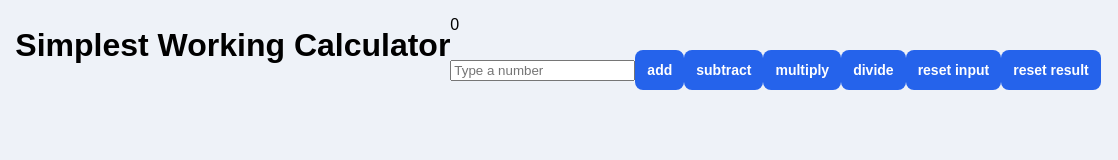
Test case: React Calculator › applies each operation to the running result
The image size is (1118, 160).
Step 1. Type "10" into the number field with placeholder "Type a number" → (543, 70), box [450,60,635,81]
Step 2. Click the button "add" → (660, 70), box [635,50,684,90]
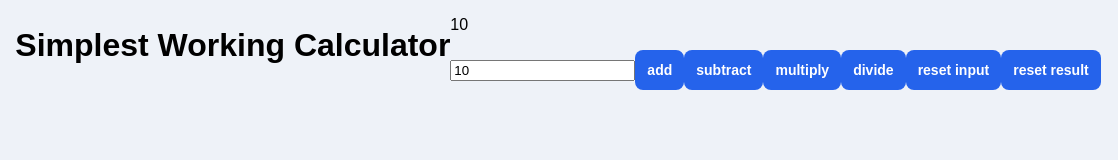
Now the text "10" is shown, box [450,16,468,33]
Step 3. Replace the text in the number field with placeholder "Type a number" with "4" → (543, 70), box [450,60,635,81]
Step 4. Click the button "subtract" → (724, 70), box [684,50,764,90]
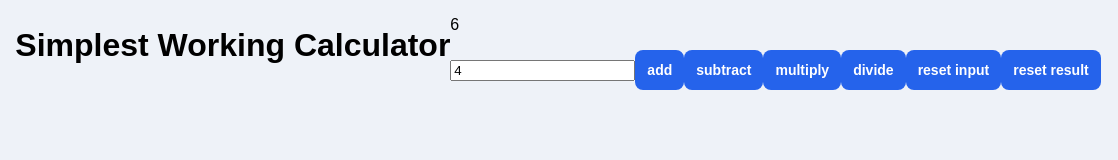
Now the text "6" is shown, box [450,16,459,33]
Step 5. Replace the text in the number field with placeholder "Type a number" with "3" → (543, 70), box [450,60,635,81]
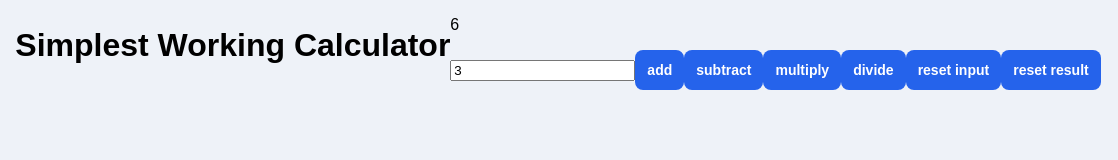
Step 6. Click the button "multiply" → (802, 70), box [764,50,841,90]
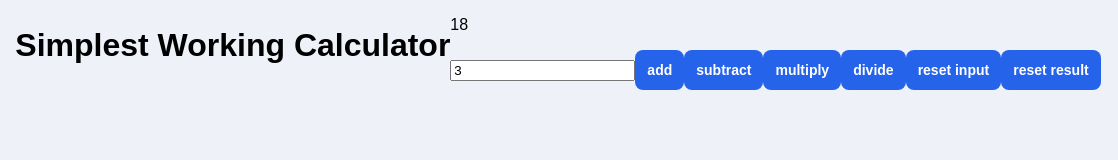
Now the text "18" is shown, box [450,16,468,33]
Step 7. Replace the text in the number field with placeholder "Type a number" with "2" → (543, 70), box [450,60,635,81]
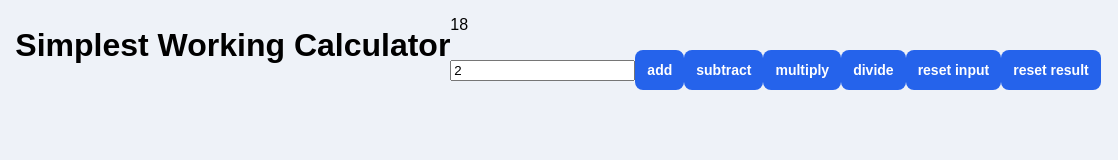
Step 8. Click the button "divide" → (873, 70), box [841,50,906,90]
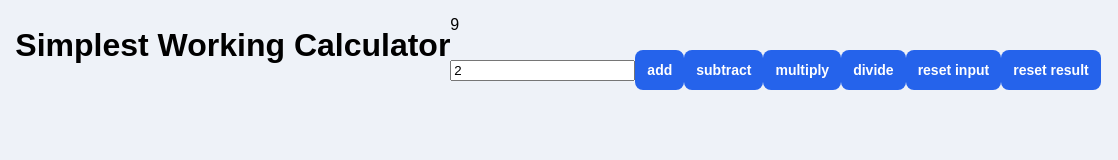
Now the text "9" is shown, box [450,16,459,33]
